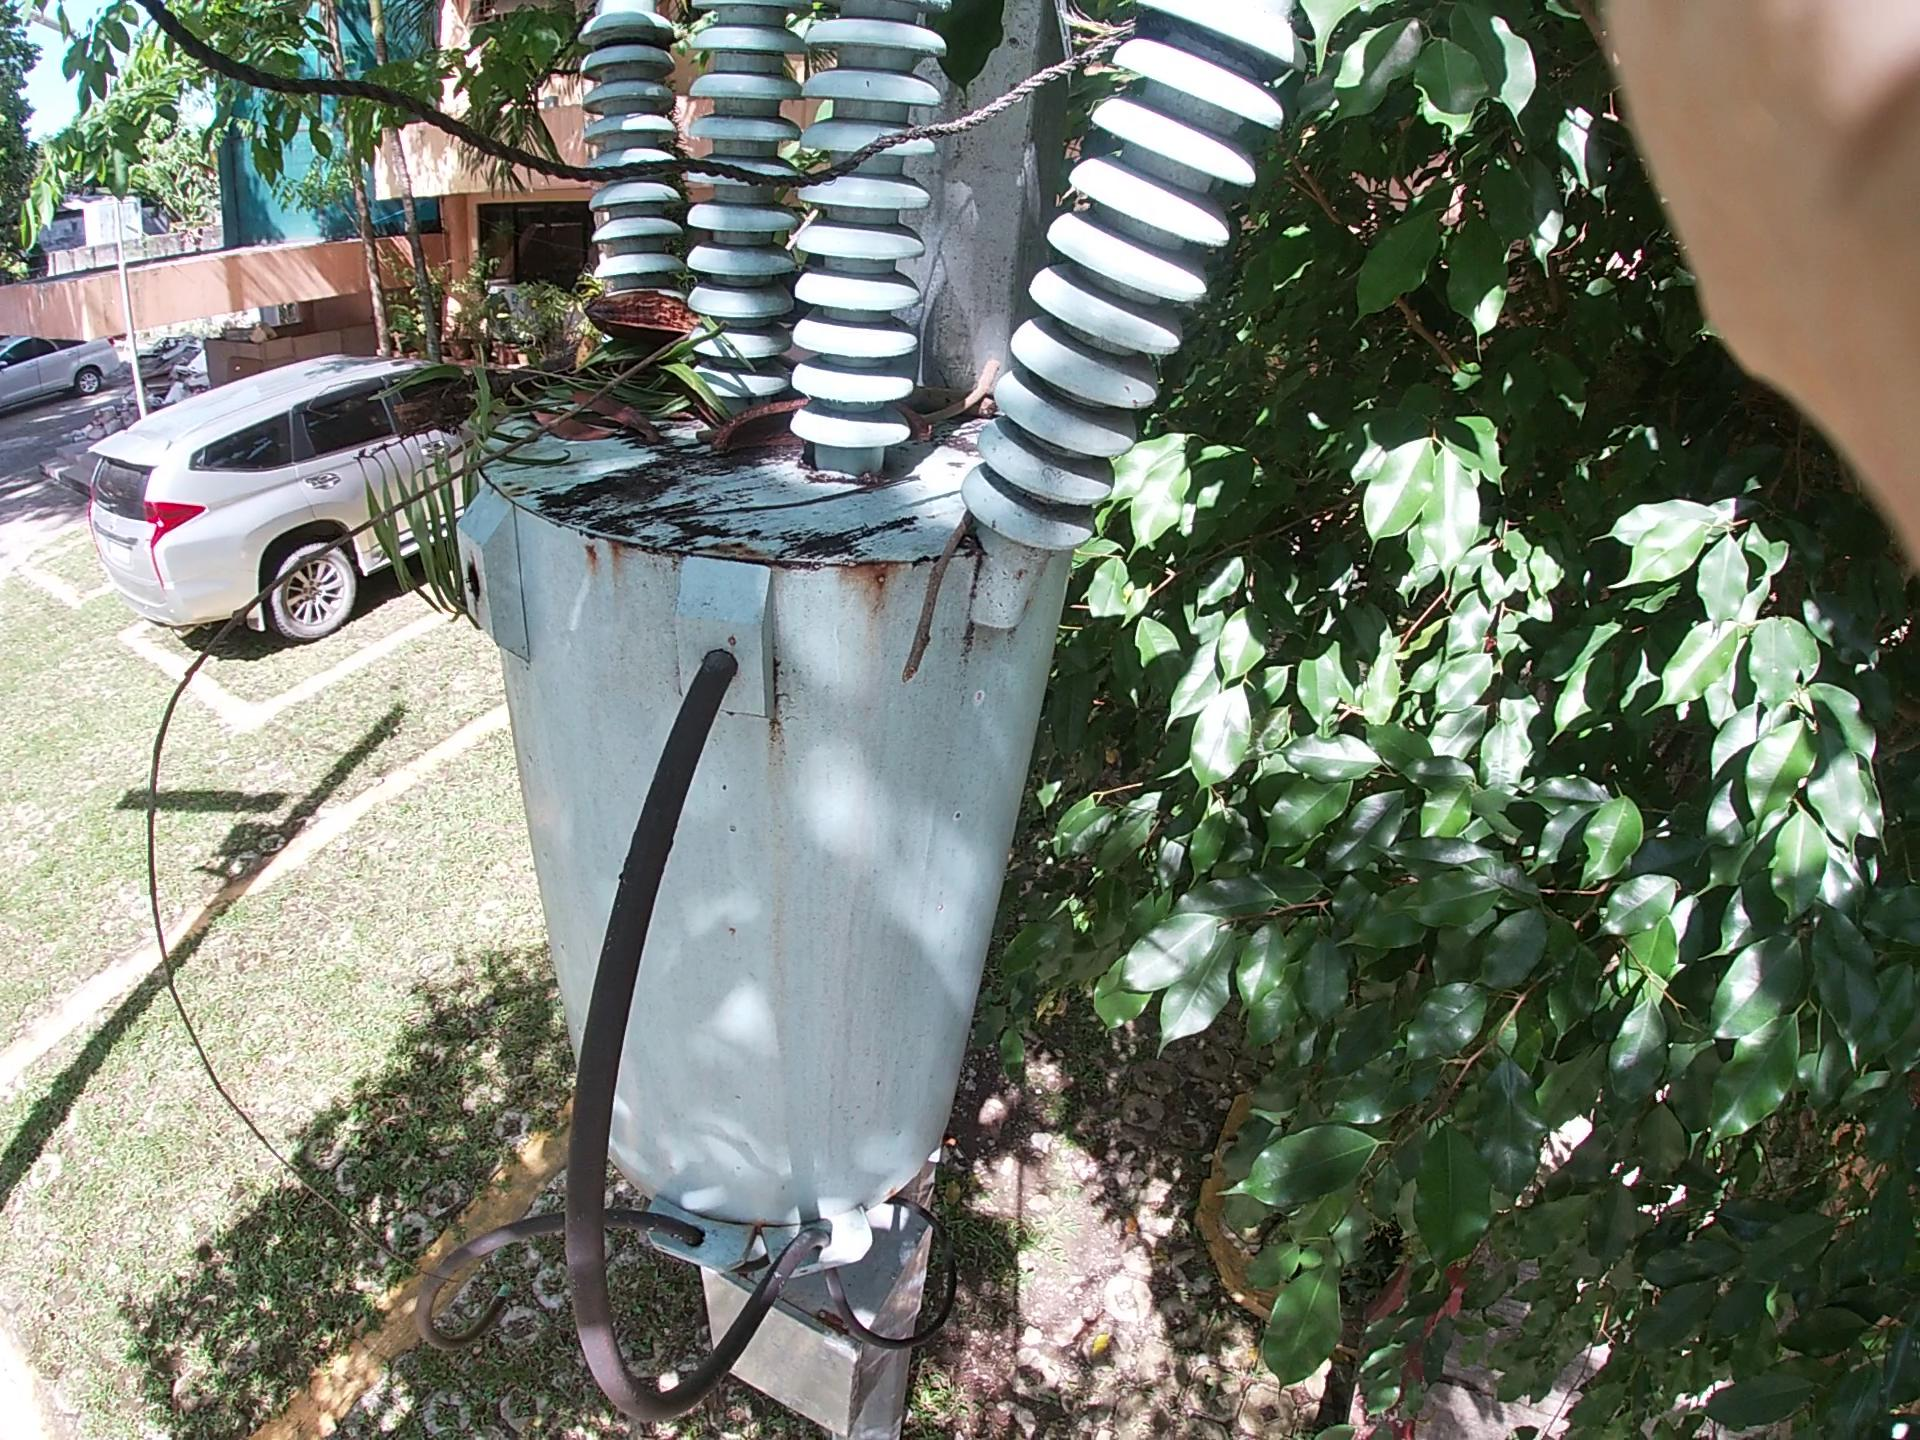branch with leaves: (367, 182, 801, 585)
leaf: (503, 360, 708, 452)
mahogany fruit: (703, 362, 897, 483), (590, 284, 723, 413)
tree branch: (83, 312, 745, 923), (903, 377, 1043, 734)
